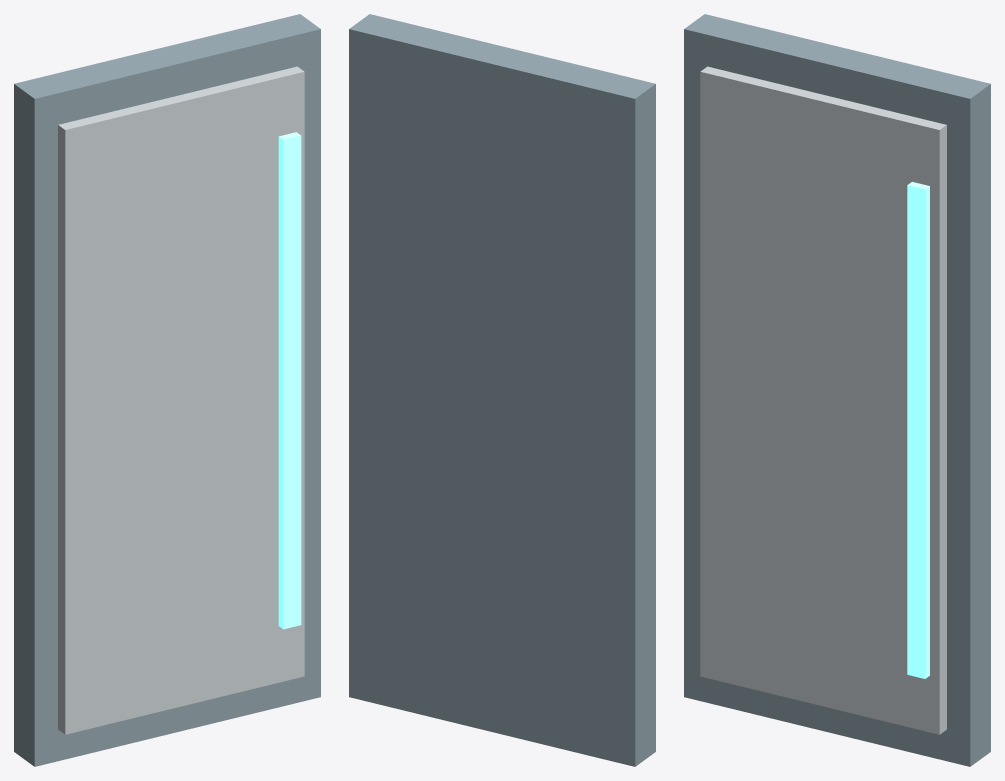
Rendered from door_leaf.glb.
3 views of the same model, side by side, from view 1: azimuth 30°, elevation 25°; view 2: azimuth 150°, elevation 25°; view 3: azimuth 330°, elevation 25° (orthographic).
Parts seen in each view (by area): view 1: ivory_1, steel_0, blue_2; view 2: steel_0; view 3: ivory_1, steel_0, blue_2.
Boxes of the visible parts, <box> form: ivory_1: <box>58,66,304,734</box>; steel_0: <box>14,14,320,766</box>; blue_2: <box>278,132,301,629</box>; steel_0: <box>349,14,655,766</box>; ivory_1: <box>700,66,946,734</box>; steel_0: <box>684,14,990,766</box>; blue_2: <box>907,182,929,678</box>.
Size of the model in its own units: 1.04 by 2.32 by 0.21.
